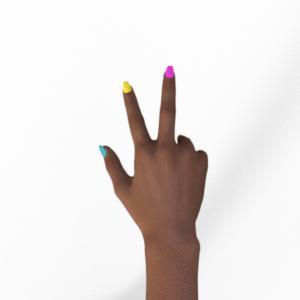scissors: (100, 66, 207, 300)
